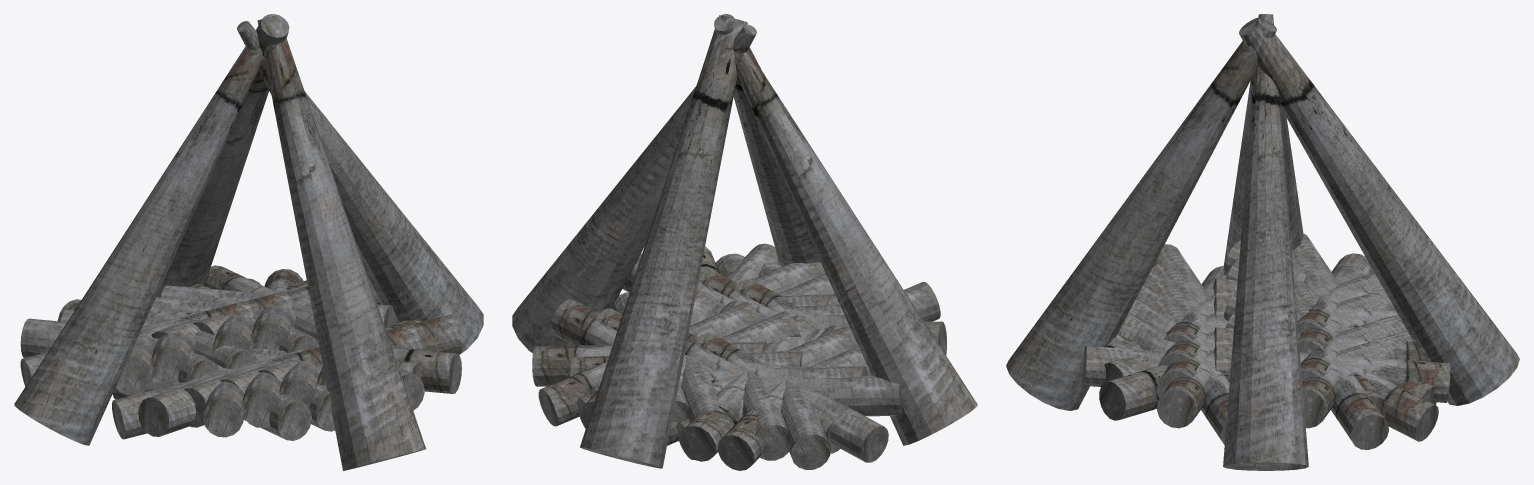
File: Kamp Ateşi.fbx
3 views of the same model, side by side, from view 1: azimuth 30°, elevation 25°; view 2: azimuth 150°, elevation 25°; view 3: azimuth 270°, elevation 25° (orthographic).
Visible parts, largest first — view 1: Cylinder.001, Cylinder.007; view 2: Cylinder.001, Cylinder.007; view 3: Cylinder.001, Cylinder.007.
Part boxes in pixels (x1,y1,x2,y2): Cylinder.001: (14, 14, 483, 470); Cylinder.007: (20, 265, 461, 440); Cylinder.001: (512, 14, 977, 468); Cylinder.007: (532, 243, 946, 470); Cylinder.001: (1006, 14, 1519, 470); Cylinder.007: (1082, 233, 1450, 449).
Size of the model in its own units: 1221 by 982 by 1197.
Materials: 1 (1 with a texture image).
